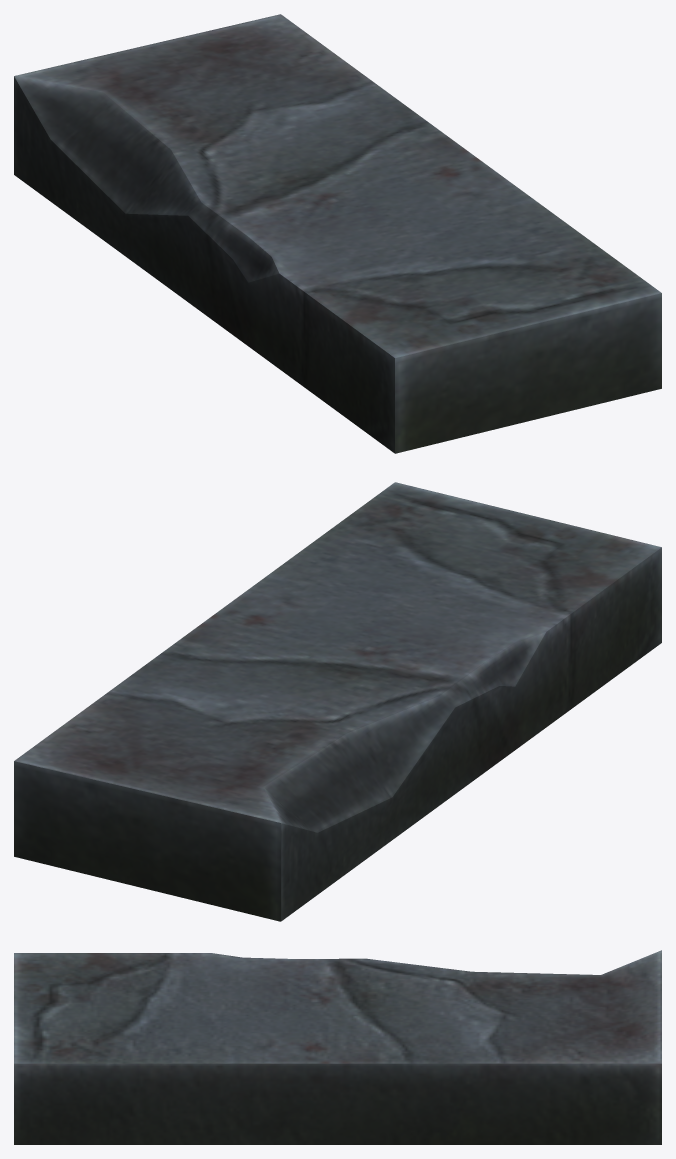
Rendered from B_shizhuan001.fbx.
The picture shows the model from 3 angles, top to bottom: view 1: azimuth 30°, elevation 25°; view 2: azimuth 150°, elevation 25°; view 3: azimuth 270°, elevation 25°; orthographic projection. The views are drawn at different scales.
Visible parts, largest first — view 1: B_shizhuan001; view 2: B_shizhuan001; view 3: B_shizhuan001.
Part boxes in pixels (box(x1,y1,x2,y2)): B_shizhuan001: box(14, 14, 661, 453); B_shizhuan001: box(14, 482, 661, 921); B_shizhuan001: box(14, 950, 661, 1144).
Size of the model in its own units: 52.75 by 18.66 by 130.
